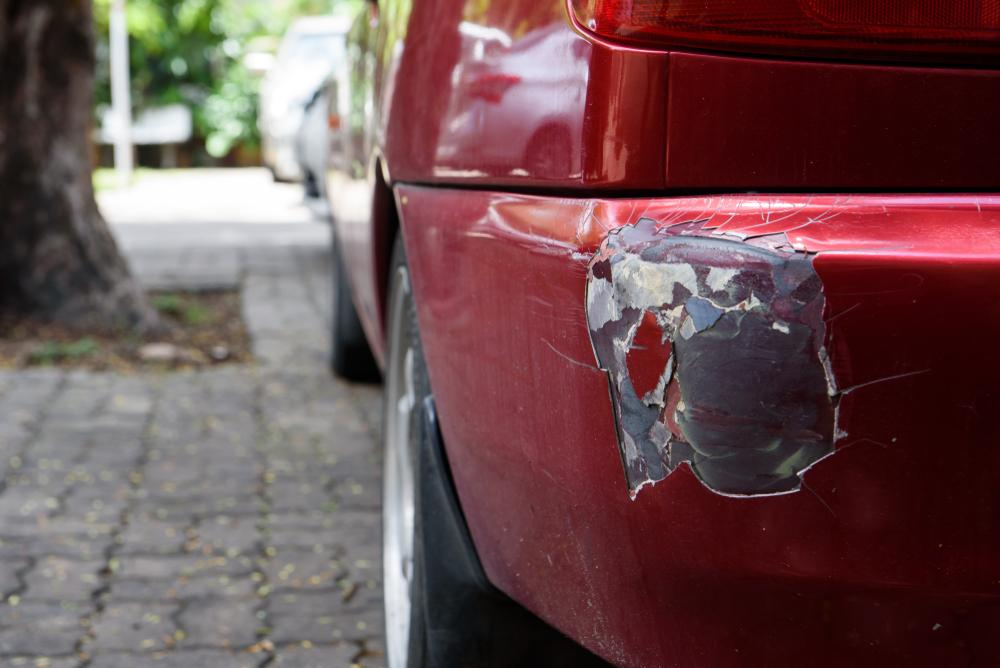scratch: (575, 206, 862, 512)
